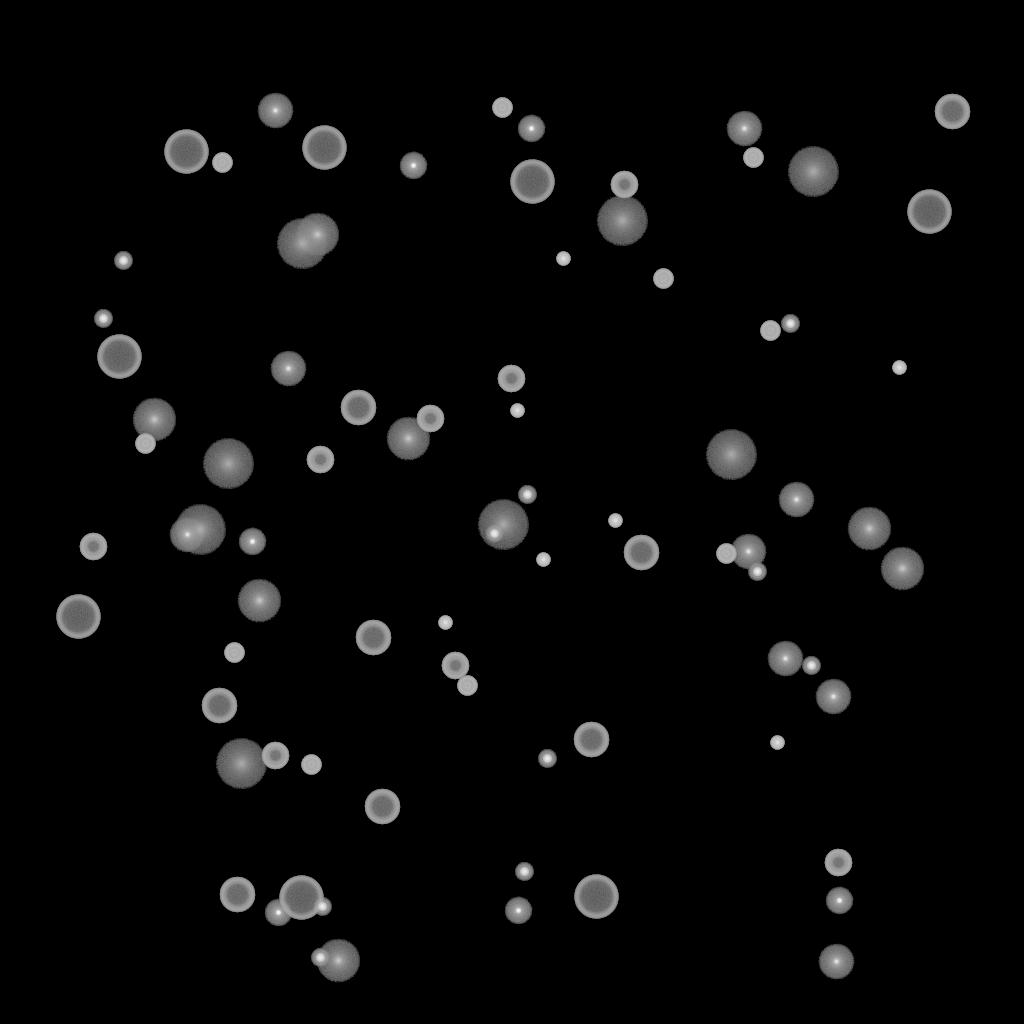depth:-10: (238, 528, 266, 556), (264, 899, 292, 927), (399, 152, 427, 180), (517, 115, 545, 143), (825, 887, 853, 915), (504, 897, 532, 925)
depth:-20: (313, 898, 331, 916), (538, 750, 556, 768), (748, 563, 766, 581), (802, 657, 820, 675), (781, 315, 799, 333), (518, 486, 536, 504), (485, 525, 503, 543), (114, 252, 132, 270), (94, 310, 112, 328), (311, 949, 329, 967), (515, 863, 533, 881)
depth:-30: (438, 616, 452, 630), (892, 361, 906, 375), (770, 736, 784, 750), (608, 514, 622, 528), (510, 404, 524, 418), (536, 553, 550, 567), (556, 252, 570, 266)
depth:-40: (212, 153, 232, 173), (301, 755, 321, 775), (135, 434, 155, 454), (743, 148, 763, 168), (224, 643, 244, 663), (716, 544, 736, 564), (492, 98, 512, 118), (653, 269, 673, 289), (760, 321, 780, 341), (457, 676, 477, 696)
depth:-50: (416, 405, 444, 433), (79, 533, 107, 561), (441, 652, 469, 680), (497, 365, 525, 393), (261, 742, 289, 770), (824, 849, 852, 877), (306, 446, 334, 474), (610, 171, 638, 199)
depth:-60: (340, 390, 376, 426), (201, 688, 237, 724), (355, 620, 391, 656), (623, 535, 659, 571), (364, 789, 400, 825), (573, 722, 609, 758), (934, 94, 970, 130), (219, 877, 255, 913)
depth:-70: (279, 876, 323, 920), (510, 160, 554, 204), (164, 130, 208, 174), (97, 335, 141, 379), (574, 875, 618, 919), (907, 190, 951, 234), (302, 126, 346, 170), (56, 595, 100, 639)
depth:0: (270, 351, 306, 387), (818, 944, 854, 980), (169, 517, 205, 553), (730, 534, 766, 570), (815, 679, 851, 715), (257, 93, 293, 129), (767, 641, 803, 677), (726, 111, 762, 147), (778, 482, 814, 518)
depth:10: (386, 417, 430, 461), (880, 547, 924, 591), (847, 507, 891, 551), (316, 939, 360, 983), (132, 398, 176, 442), (295, 213, 339, 257), (237, 579, 281, 623)
depth:20: (202, 439, 254, 489), (276, 219, 328, 269), (705, 430, 757, 480), (596, 196, 648, 246), (174, 505, 226, 555), (787, 147, 839, 197), (477, 500, 529, 550), (215, 739, 267, 789)
